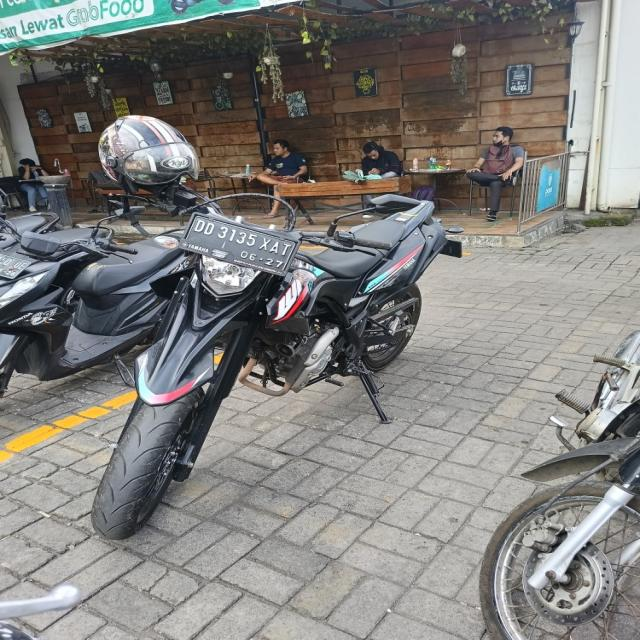plates: (183, 214, 294, 274)
